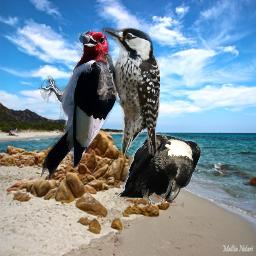Crow: (116, 132, 202, 208)
Woodpecker: (35, 21, 120, 186), (96, 27, 160, 160)
